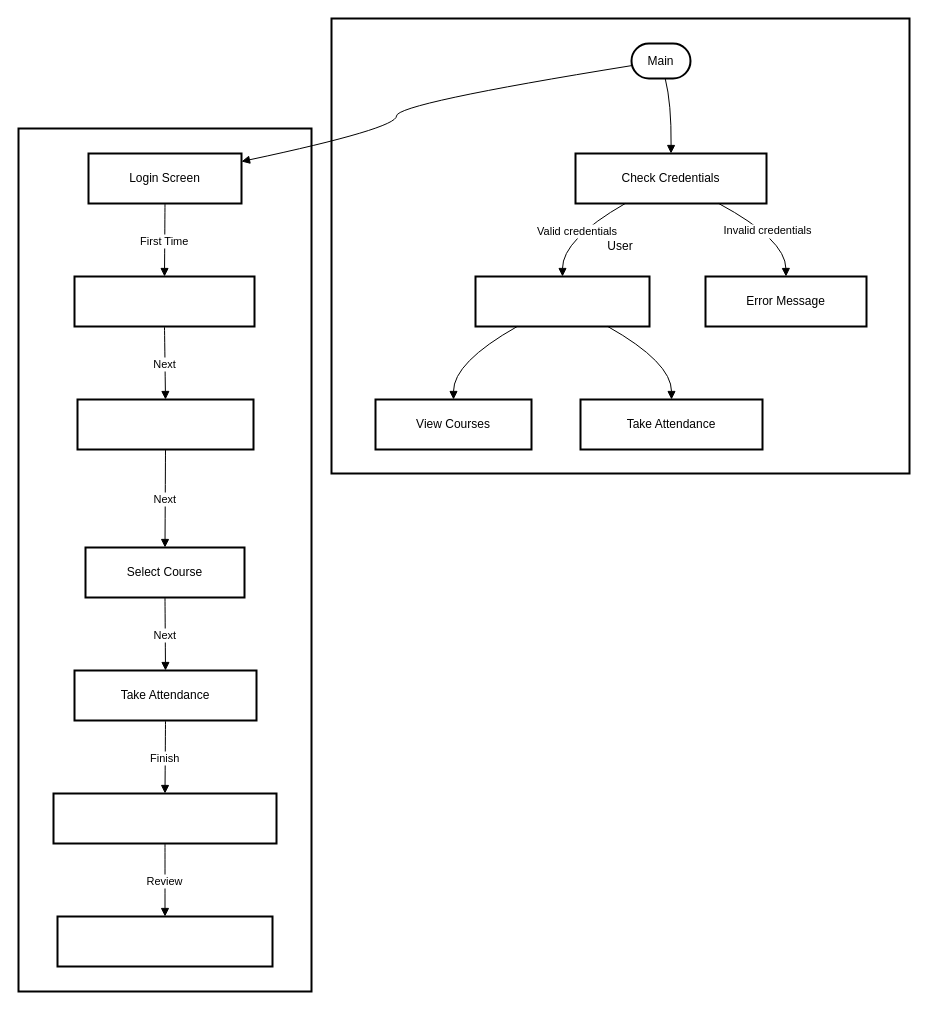
Some shapes in this 927 by 1009 pixel diagram are drawn without their labels. The shapes that lost their labels are listed below. From the top down, each one's centre as x and y in pixels, then its label:
the point at 164,301: Welcome Screen
the point at 562,301: Main Dashboard
the point at 165,424: Dashboard Intro
the point at 164,818: Attendance Submitted
the point at 164,941: Attendance Summary
